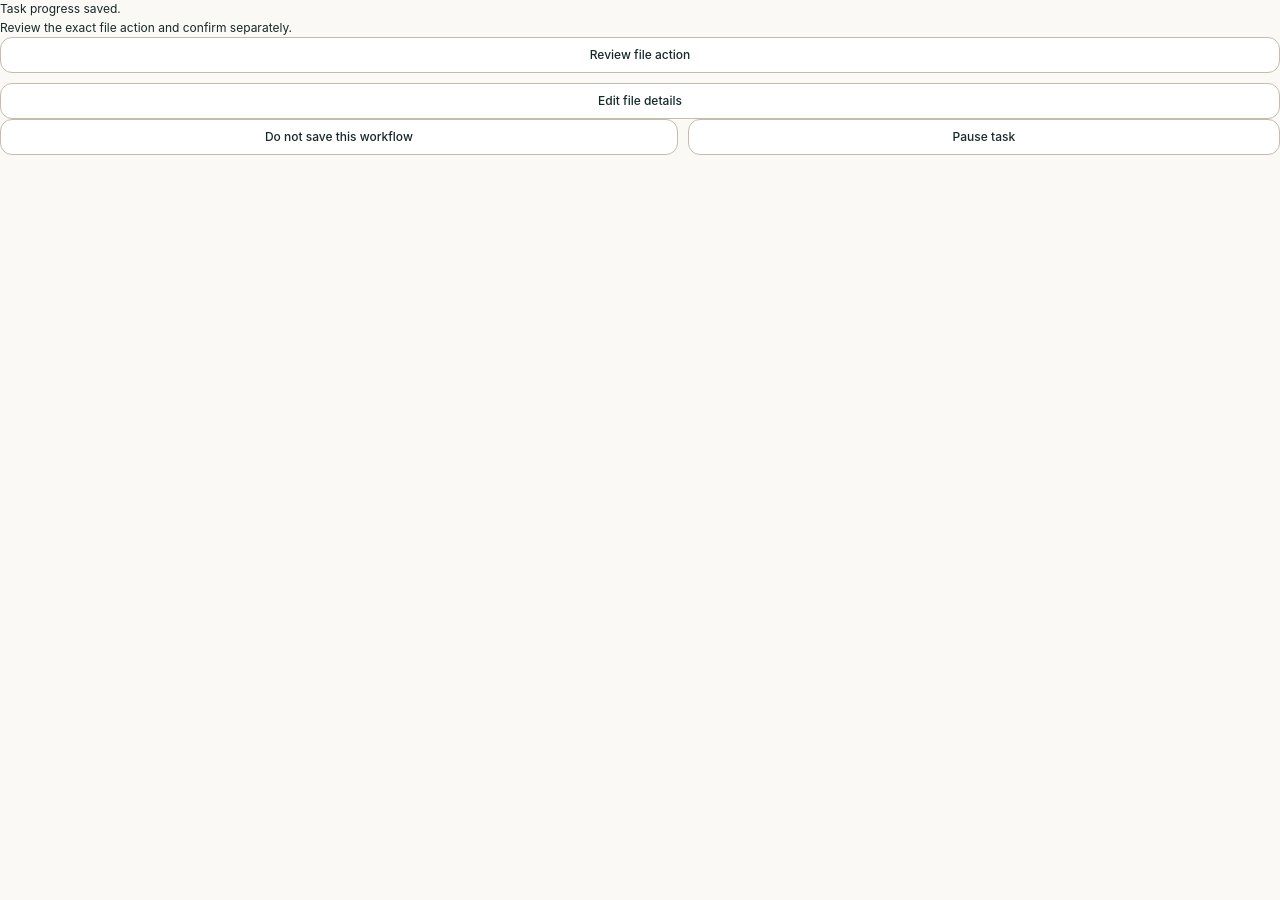
Test: retains a failed review and checks the real result before permitting another write
Later steps or results of the test are not shown.
Click the button "Review file action". click: {"x": 640, "y": 55}
box: [0,37,1279,73]
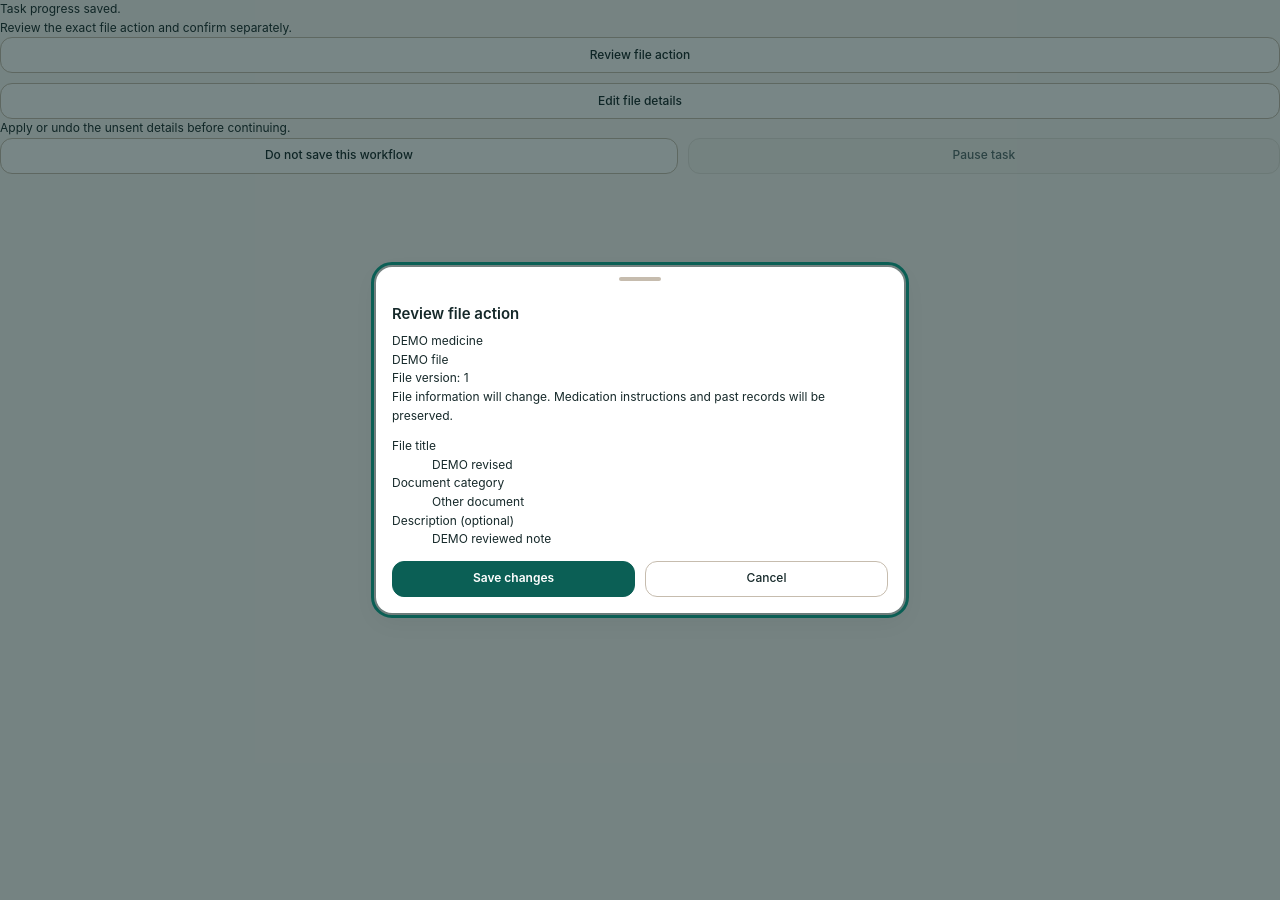
Click the button "Save changes". click: {"x": 514, "y": 579}
box: [392,561,635,597]
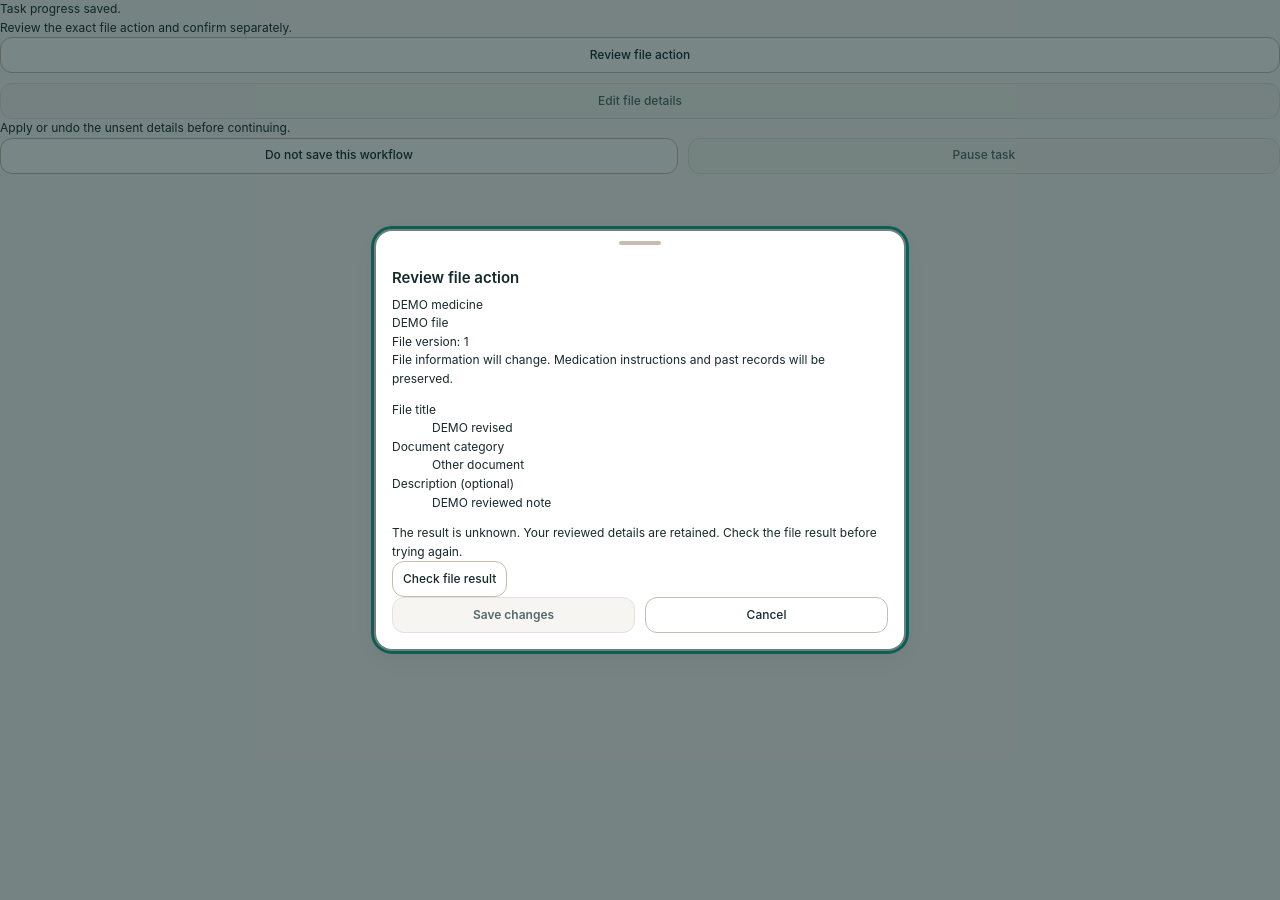
Expected: the dialog shows "DEMO reviewed note", [432,495,551,510]
Expected: the message is shown, [392,524,888,561]
Expected: the button "Save changes" is disabled, [392,597,635,633]
